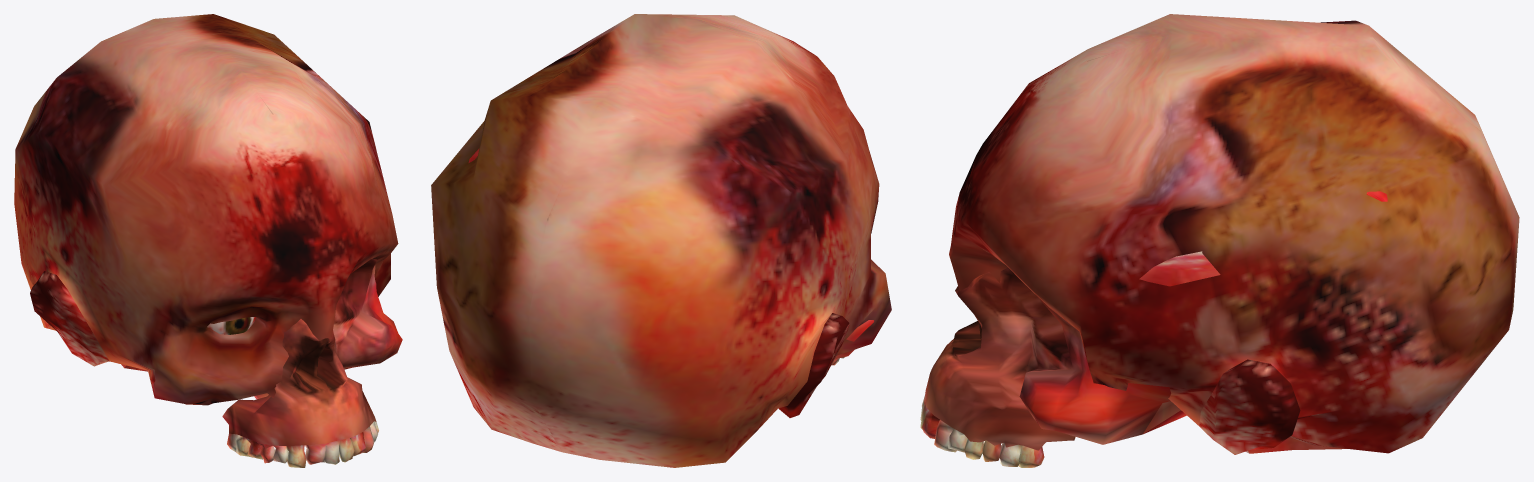
The model's file is male_head_noneck-03.fbx.
3 views of the same model, side by side, from view 1: azimuth 30°, elevation 25°; view 2: azimuth 150°, elevation 25°; view 3: azimuth 270°, elevation 25° (orthographic). The views are drawn at different scales.
Parts seen in each view (by area): view 1: head4; view 2: head4; view 3: head4.
Boxes of the visible parts, box(x1,y1,x2,y2) form: head4: box(14, 14, 402, 467); head4: box(431, 14, 891, 467); head4: box(920, 14, 1519, 467).
Size of the model in its own units: 0.224 by 0.216 by 0.2933.
